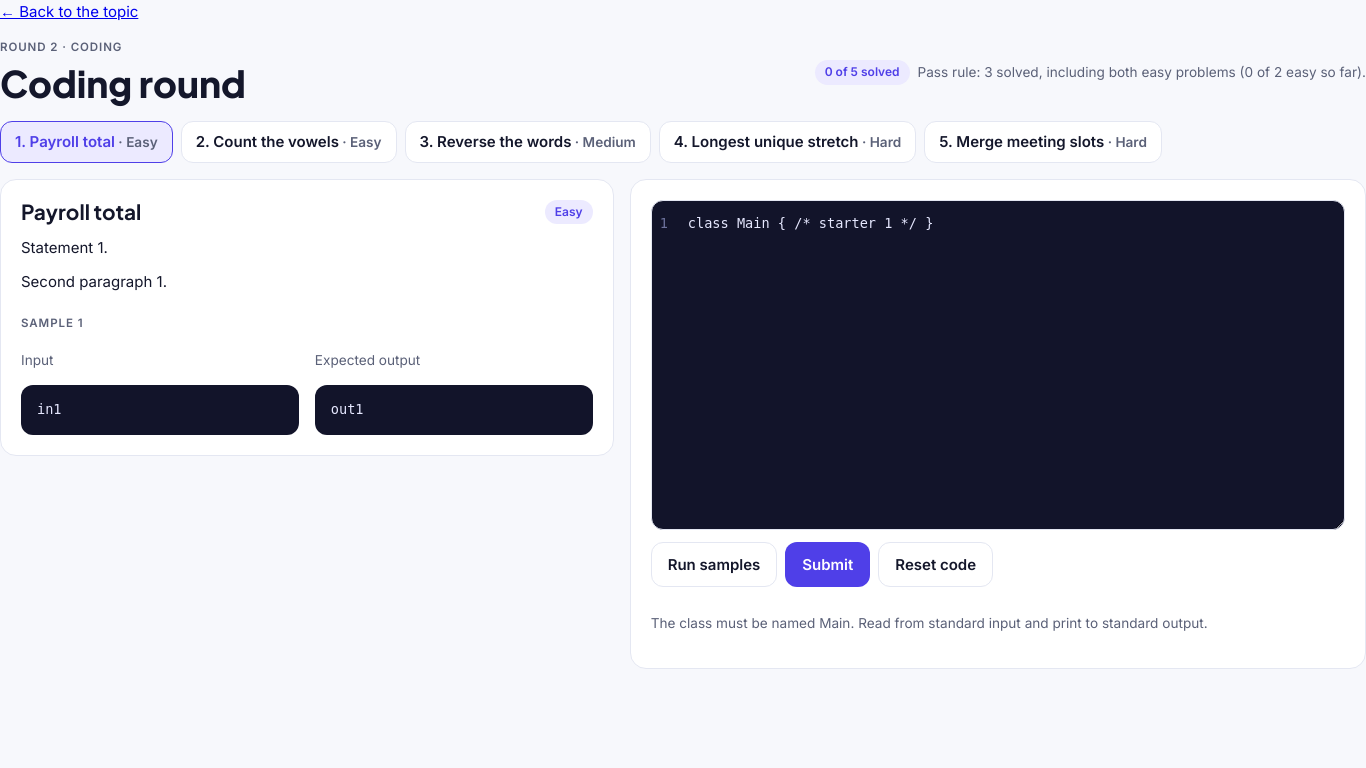
Test: writing and running code › a wrong answer shows input, expected and actual output for a sample test
The image size is (1366, 768).
Expected: the heading "Payroll total" is shown, [21,200,141,224]
Click the button "Run samples".
click(714, 565)  # box [651,542,777,587]
(page scrolled)
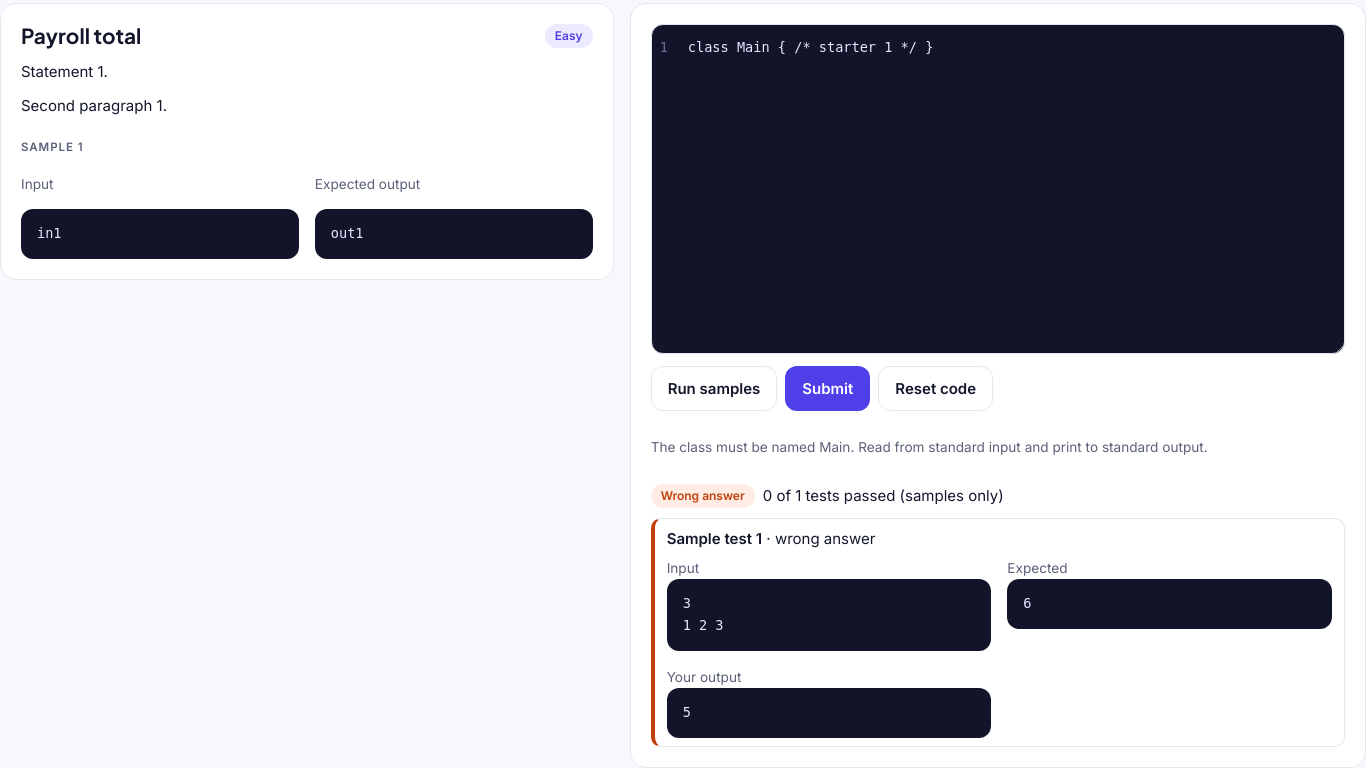
Now the text "Wrong answer" is shown, box [651,484,755,508]
Now the text "Your output" is shown, box [667,669,741,685]
Now the text "5" is shown, box [683,704,691,720]
